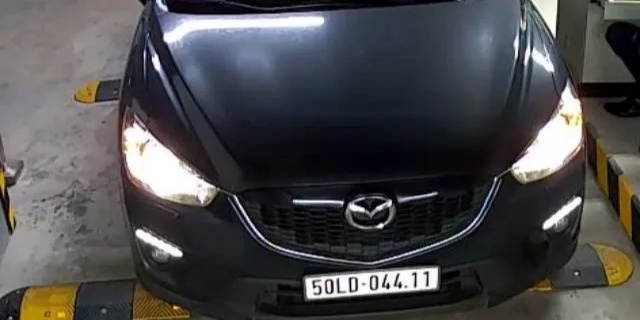bien_so: (305, 269, 437, 299)
